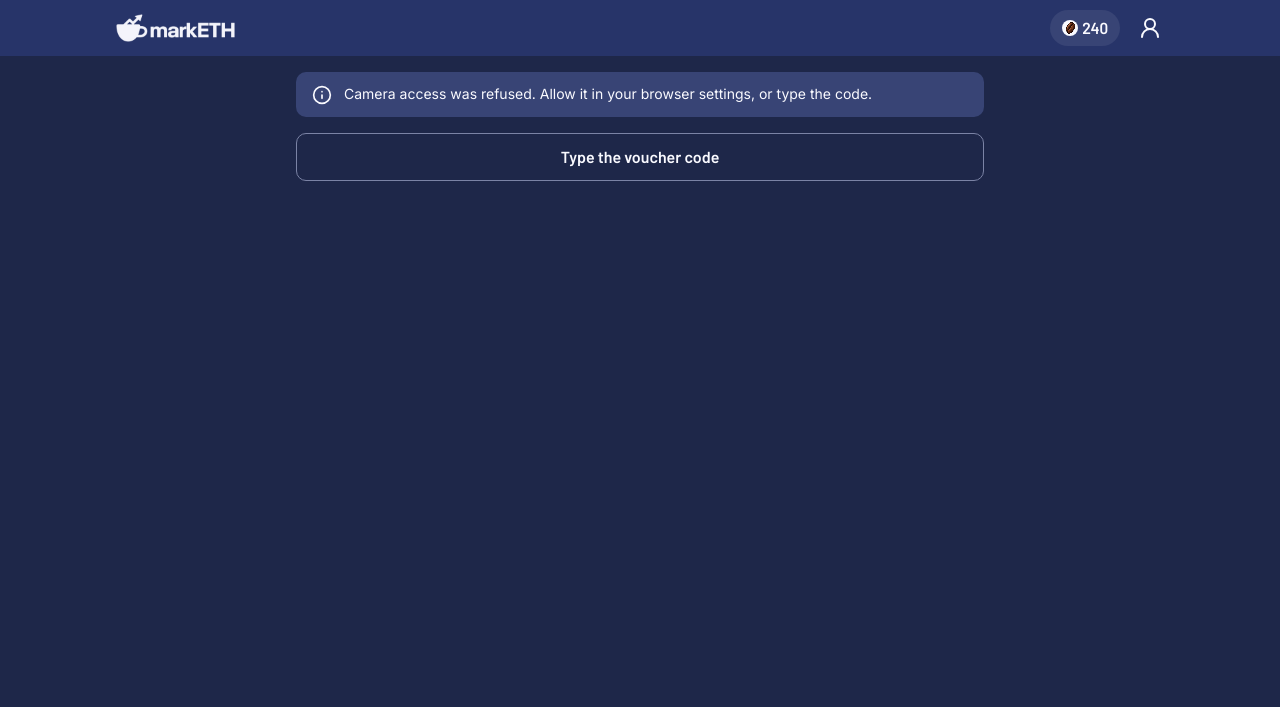
Test case: without a camera › a failure is told above the scanner's own message, not over it
Expected: the text "Camera access was refused" is shown, top-left (344, 85), bottom-right (872, 102)
Click the button "Type the voucher code".
click(640, 157)  # box top-left (296, 133), bottom-right (984, 181)
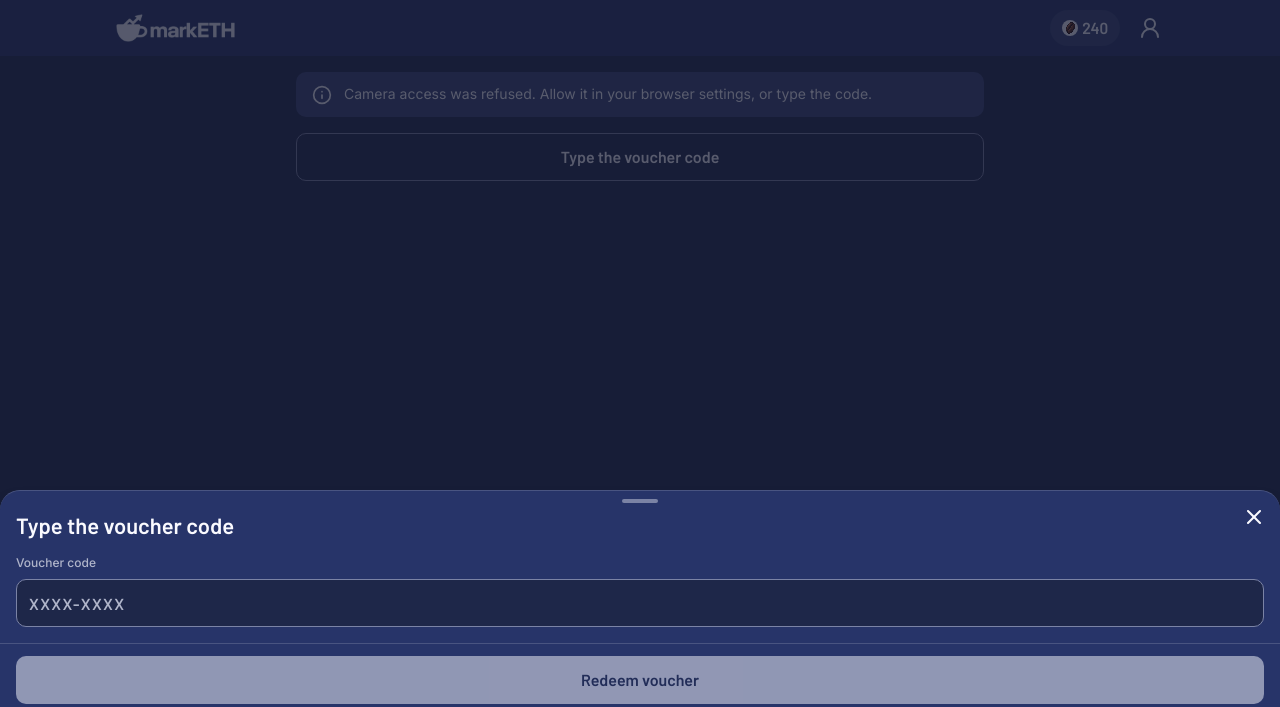
Type "7kq2m9xa" into the field labelled "Voucher code".
click(640, 603); type("7kq2m9xa")  # box top-left (16, 579), bottom-right (1264, 627)
Then press Enter
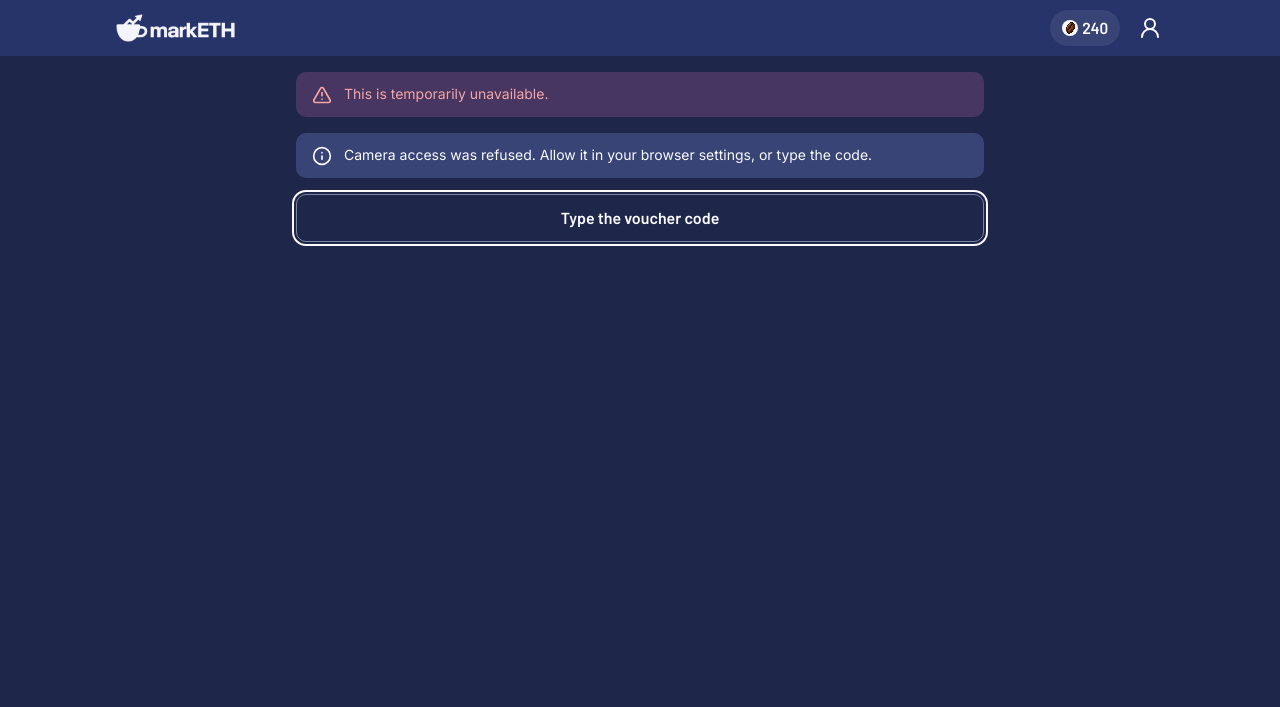
Expected: the text "Camera access was refused" is shown, top-left (344, 146), bottom-right (872, 163)
Expected: the message "This is temporarily unavailable." is shown, top-left (296, 72), bottom-right (984, 117)
